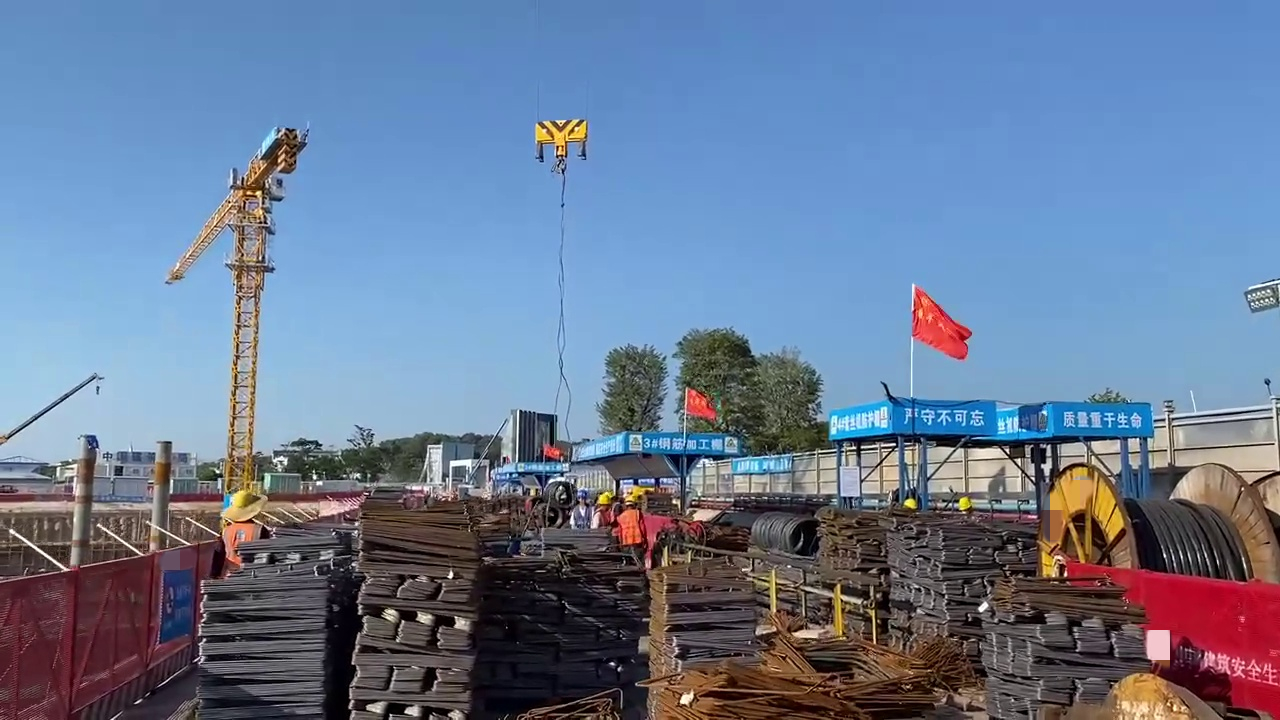fence: (3, 542, 194, 720), (1101, 558, 1280, 720)
helmet: (230, 489, 254, 506), (623, 494, 638, 506)
hook: (533, 114, 588, 154)
person: (219, 489, 268, 584), (620, 493, 644, 556), (570, 488, 590, 534), (597, 496, 612, 536)
rebar: (339, 493, 488, 720), (976, 562, 1130, 720), (682, 626, 913, 720), (206, 552, 335, 720), (891, 521, 1005, 665), (642, 563, 763, 665), (816, 499, 900, 589)
slogan: (894, 399, 997, 429), (1048, 405, 1148, 431)
vest: (222, 523, 261, 579), (621, 509, 640, 545)
